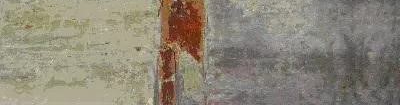Corrosion: (159, 1, 208, 65), (158, 48, 177, 105)
